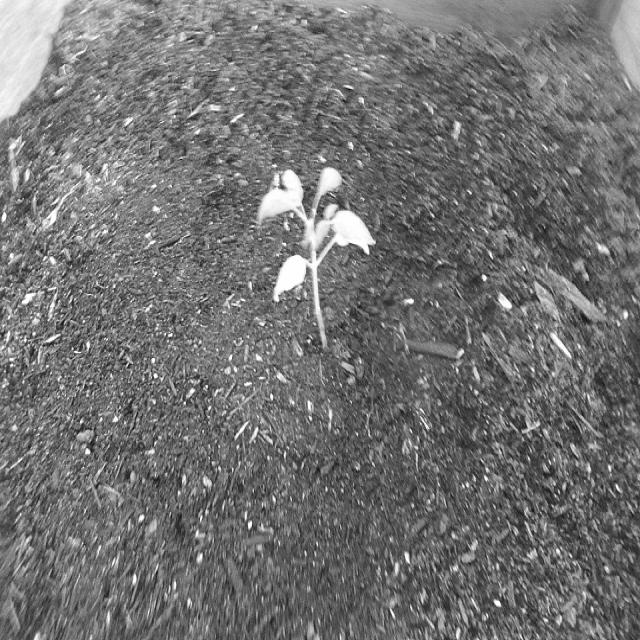Healthy: (255, 161, 377, 356)
